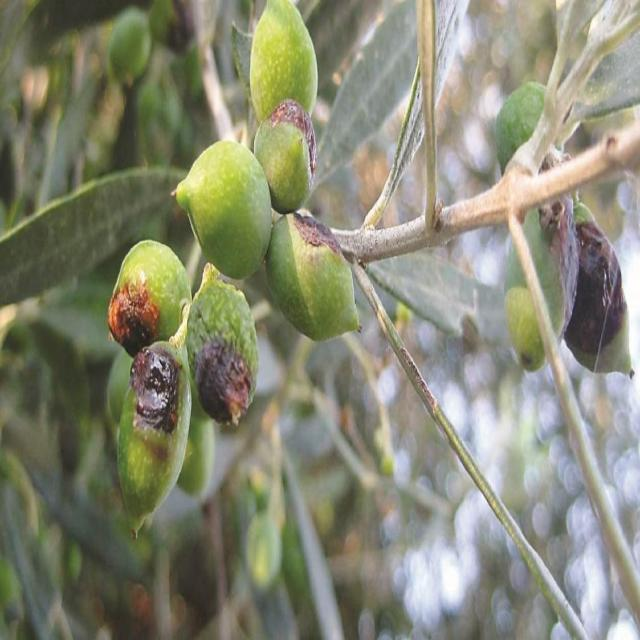Anthracnose: (117, 338, 191, 545), (265, 212, 361, 340), (564, 205, 634, 378), (186, 263, 258, 424), (106, 240, 190, 358), (253, 101, 317, 212)
